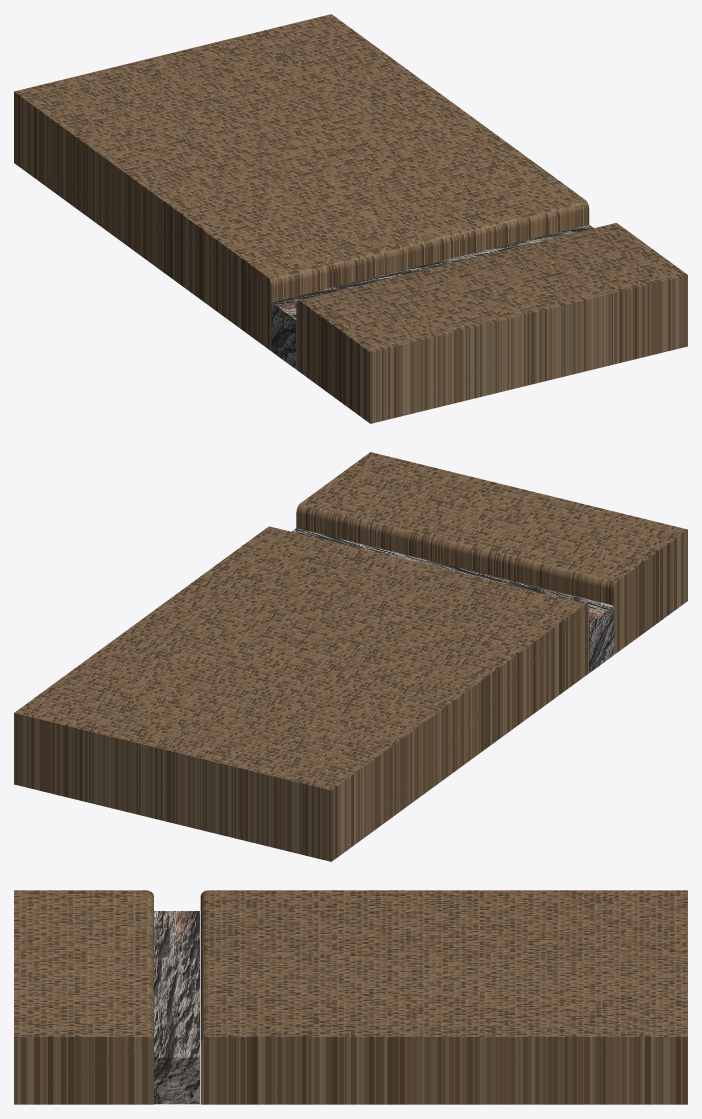
Rendered from groundoff.fbx.
3 views of the same model, one above another, from view 1: azimuth 30°, elevation 25°; view 2: azimuth 150°, elevation 25°; view 3: azimuth 270°, elevation 25° (orthographic). The views are drawn at different scales.
Parts seen in each view (by area): view 1: Plane, Cube; view 2: Plane, Cube; view 3: Plane, Cube.
Part boxes in pixels (x1,y1,x2,y2): Plane: (14, 14, 687, 423); Cube: (271, 225, 593, 369); Plane: (14, 452, 687, 861); Cube: (291, 528, 614, 672); Plane: (14, 890, 687, 1104); Cube: (154, 911, 199, 1104).
Size of the model in its own units: 5113 by 1099 by 9932.
